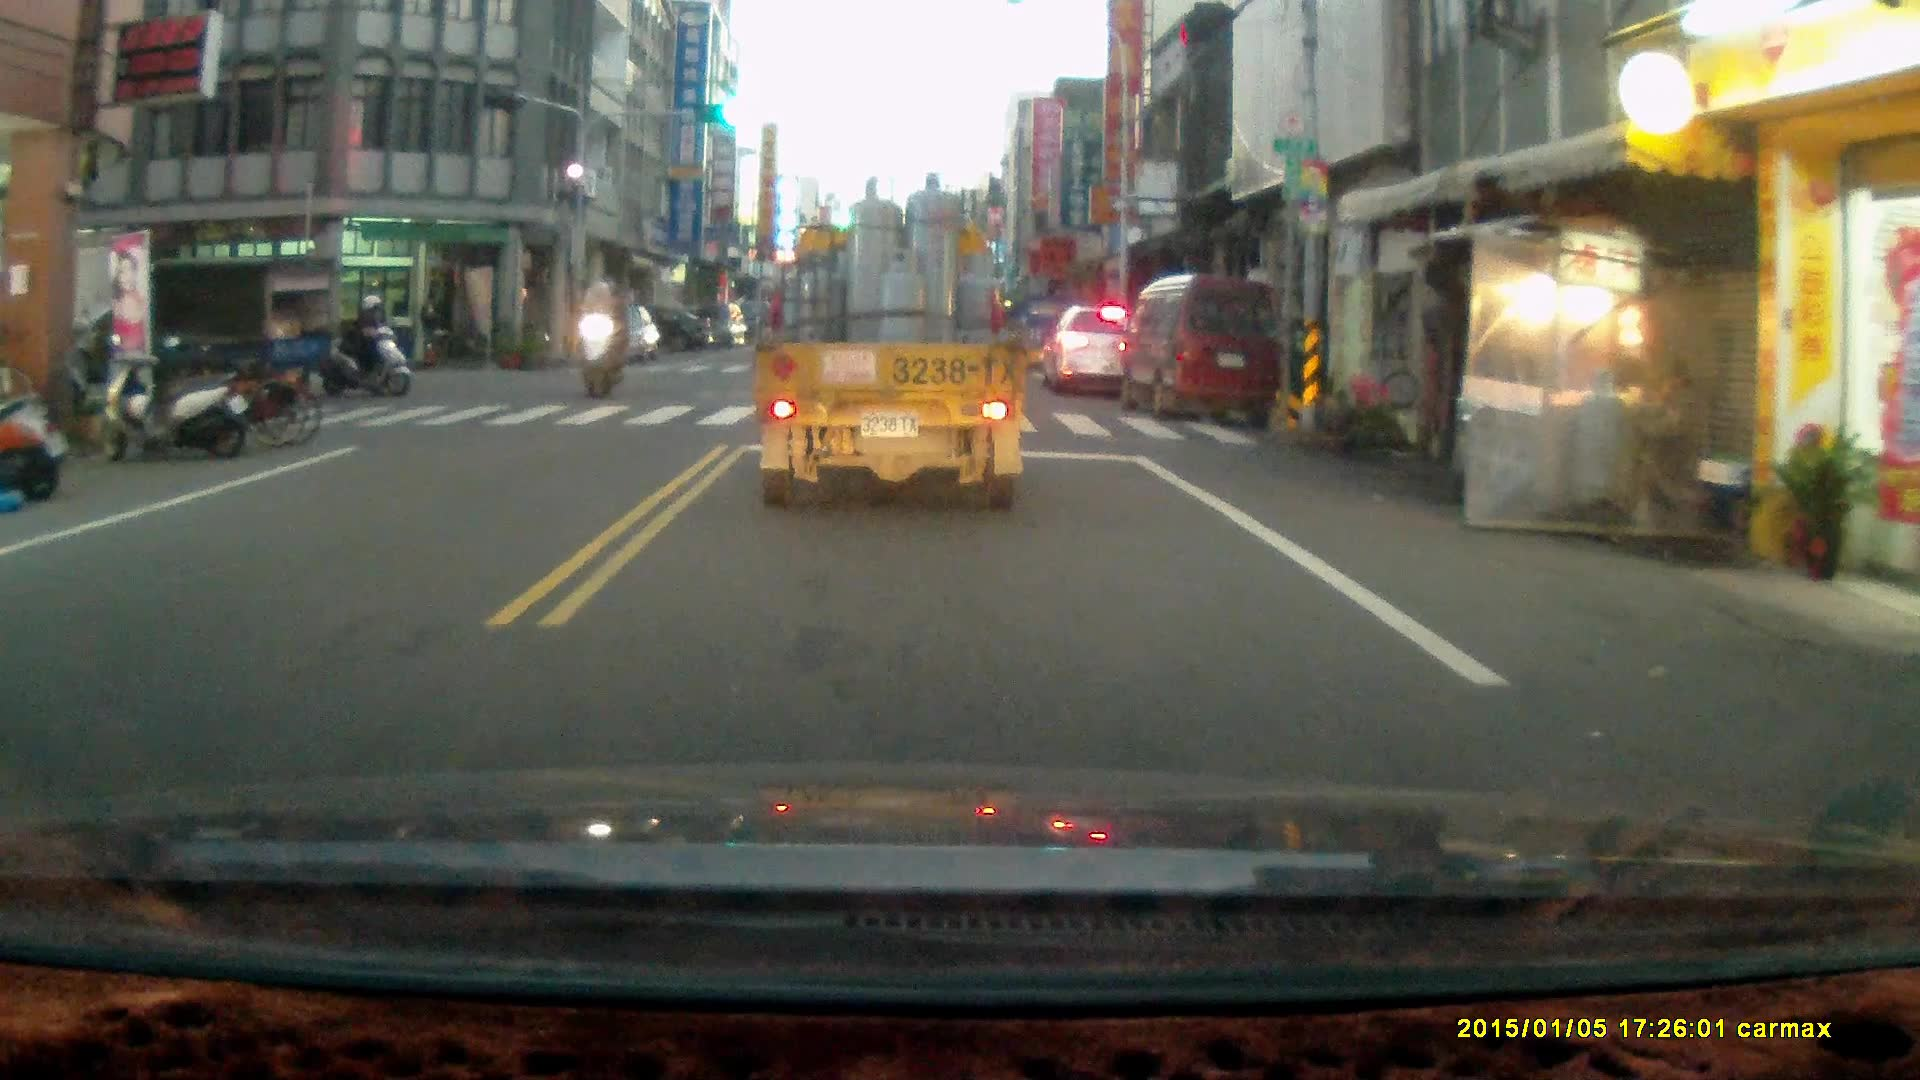pedestrian: (415, 288, 444, 369)
rider: (322, 282, 411, 389), (567, 272, 621, 395)
vehicle: (752, 167, 1028, 511), (68, 247, 343, 407), (1121, 277, 1287, 424), (1044, 301, 1150, 400), (599, 300, 714, 356), (582, 302, 664, 368), (675, 302, 746, 349)
